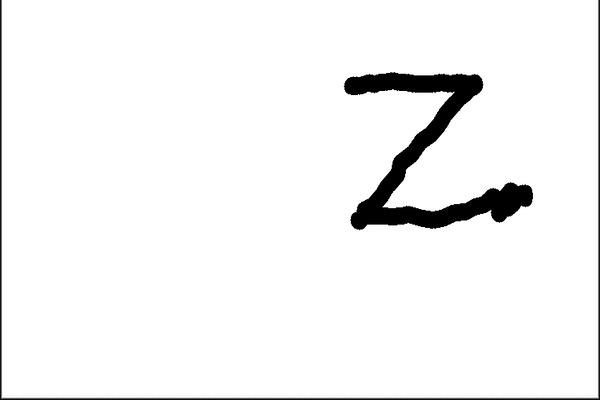Z: (321, 55, 539, 236)
